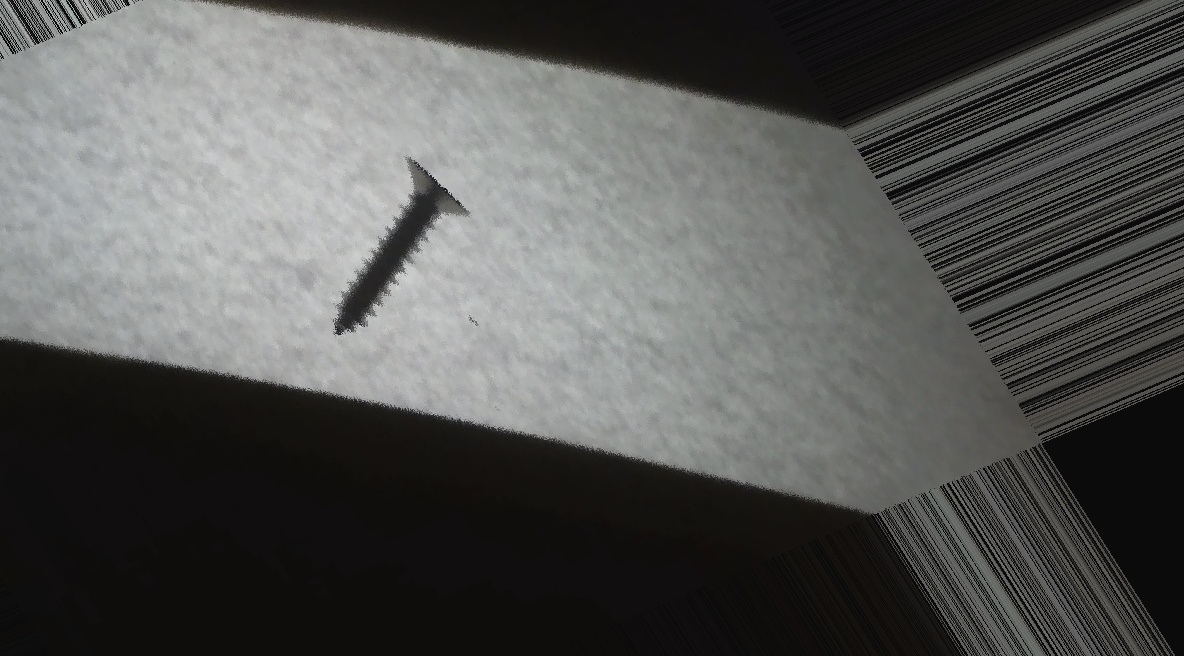S001: (242, 135, 525, 358)
